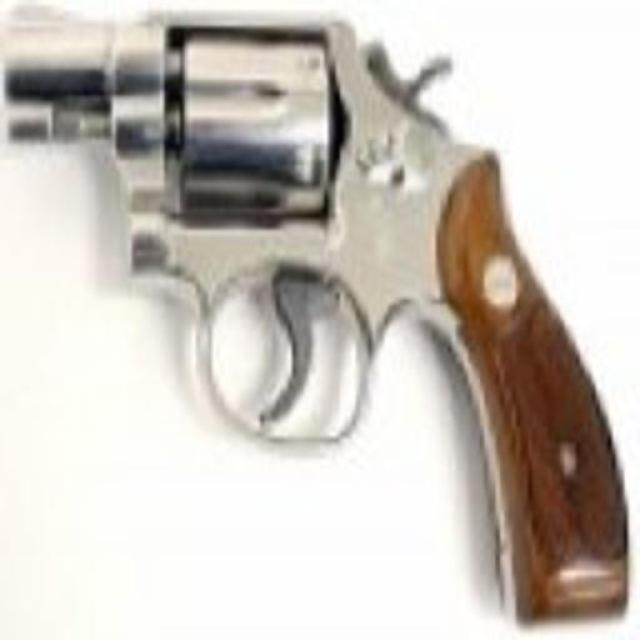pistol: (11, 5, 620, 617)
